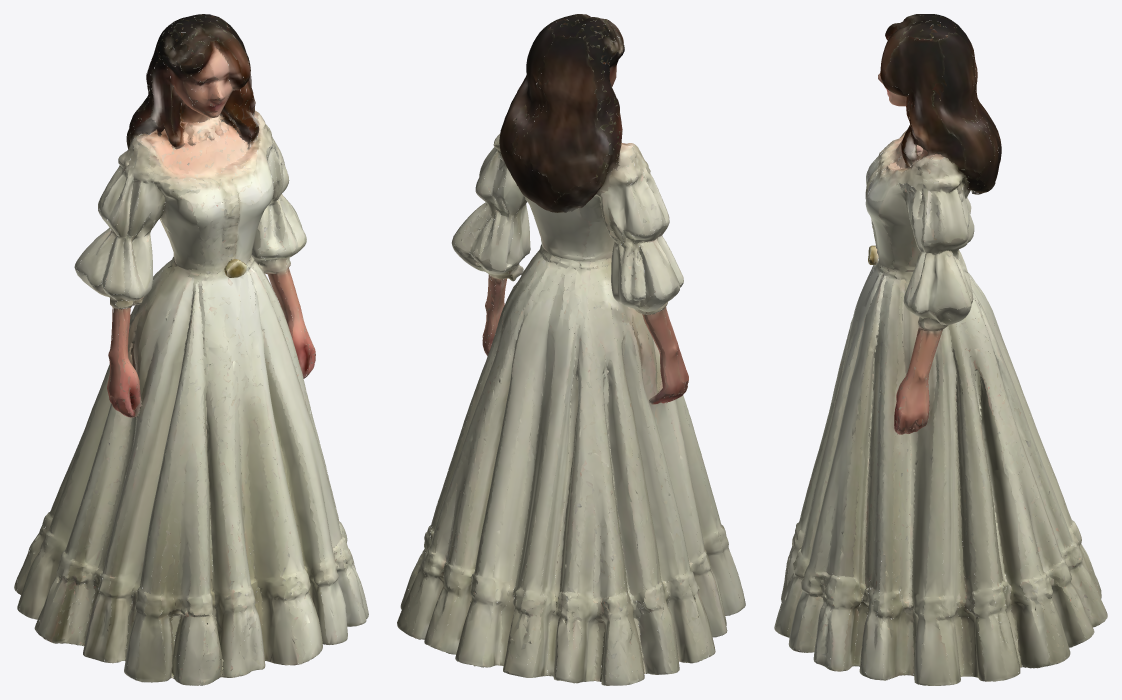
The model's file is char_adult_f_elegant.glb.
3 views of the same model, side by side, from view 1: azimuth 30°, elevation 25°; view 2: azimuth 150°, elevation 25°; view 3: azimuth 270°, elevation 25° (orthographic).
Parts seen in each view (by area): view 1: geometry_0; view 2: geometry_0; view 3: geometry_0.
Boxes of the visible parts, x1,y1,x2,y2 form: geometry_0: (14,14,368,685); geometry_0: (397,14,745,685); geometry_0: (774,14,1107,685).
Size of the model in its own units: 1.5 by 3.04 by 1.46.
Materials: 1 (1 with a texture image).
